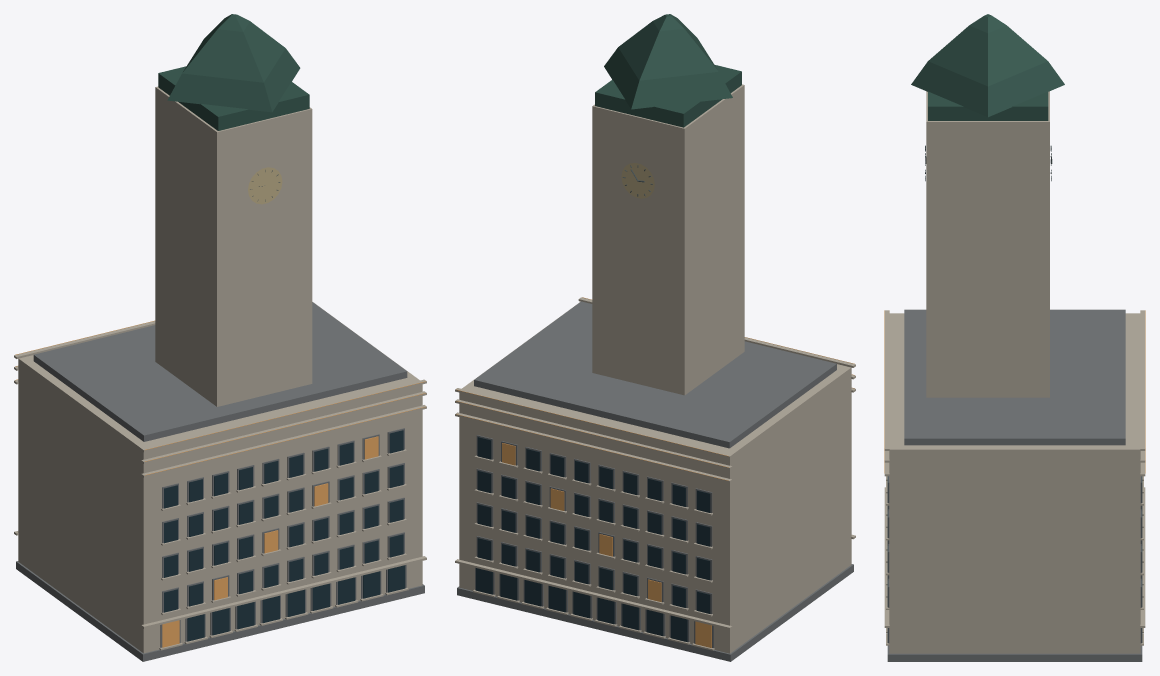
The model's file is customs_far.glb.
3 renders of one model, left to right at view 1: azimuth 30°, elevation 25°; view 2: azimuth 150°, elevation 25°; view 3: azimuth 270°, elevation 25°, orthographic. The views are drawn at different scales.
Visible parts, largest first — view 1: Limestone, Plinth, GlassDark, Copper, NightWarm, Clock; view 2: Limestone, Plinth, GlassDark, Copper, NightWarm, Clock; view 3: Limestone, Plinth, Copper, GlassDark.
Part boxes in pixels (x1,y1,x2,y2): Limestone: [14, 86, 426, 653]; Plinth: [16, 302, 424, 661]; GlassDark: [164, 430, 405, 641]; Copper: [158, 14, 309, 130]; NightWarm: [15, 320, 425, 647]; Clock: [248, 167, 282, 204]; Limestone: [455, 84, 855, 653]; Plinth: [457, 301, 853, 661]; GlassDark: [476, 437, 710, 642]; Copper: [595, 14, 741, 127]; NightWarm: [456, 297, 854, 648]; Clock: [621, 163, 654, 198]; Limestone: [884, 91, 1145, 653]; Plinth: [887, 309, 1142, 661]; Copper: [911, 14, 1064, 120]; GlassDark: [887, 476, 1142, 642].
Size of the model in its own units: 36.55 by 71 by 29.09.
